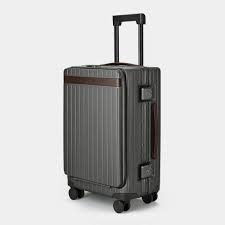suitcase: (60, 11, 163, 212)
